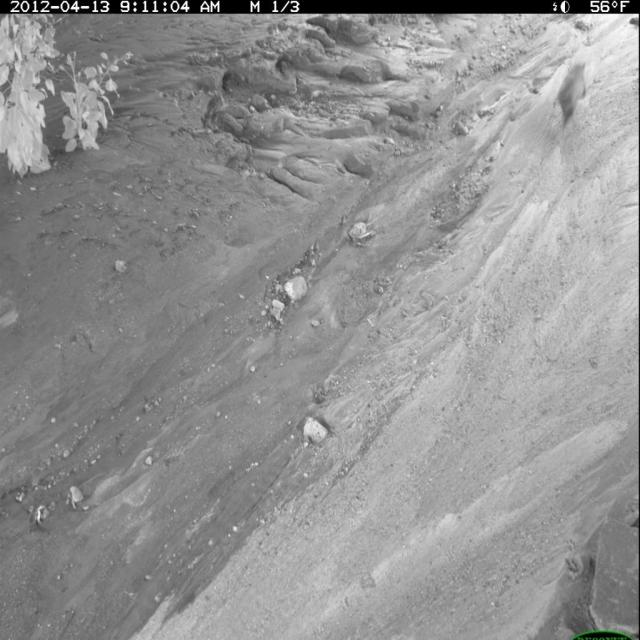opossum: (552, 56, 594, 132)
